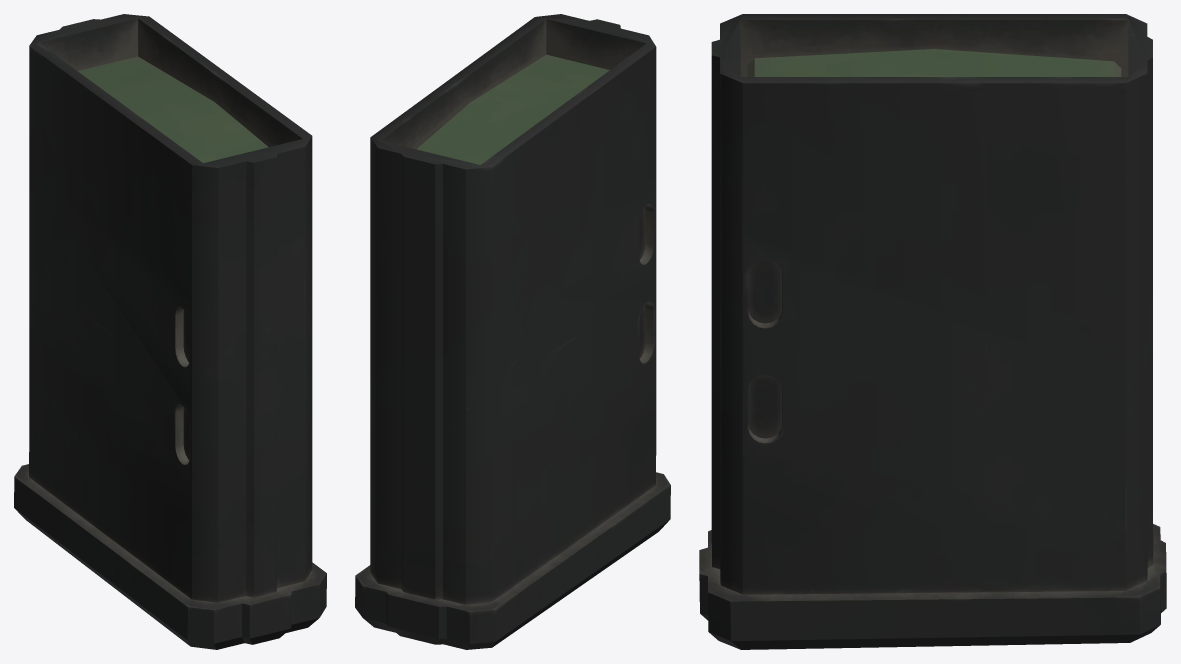
Rendered from carregador_ar10_10.glb.
3 views of the same model, side by side, from view 1: azimuth 30°, elevation 25°; view 2: azimuth 150°, elevation 25°; view 3: azimuth 270°, elevation 25° (orthographic). The views are drawn at different scales.
Visible parts, largest first — view 1: carregador_ar10_10_carregador; view 2: carregador_ar10_10_carregador; view 3: carregador_ar10_10_carregador.
Boxes of the visible parts, left/top/right/bottom form: carregador_ar10_10_carregador: left=14, top=14, right=326, bottom=649; carregador_ar10_10_carregador: left=355, top=14, right=670, bottom=649; carregador_ar10_10_carregador: left=699, top=14, right=1166, bottom=649.
Bounding box in the file's own units: 0.0295 × 0.0975 × 0.0729.
1 material, 1 textured.
